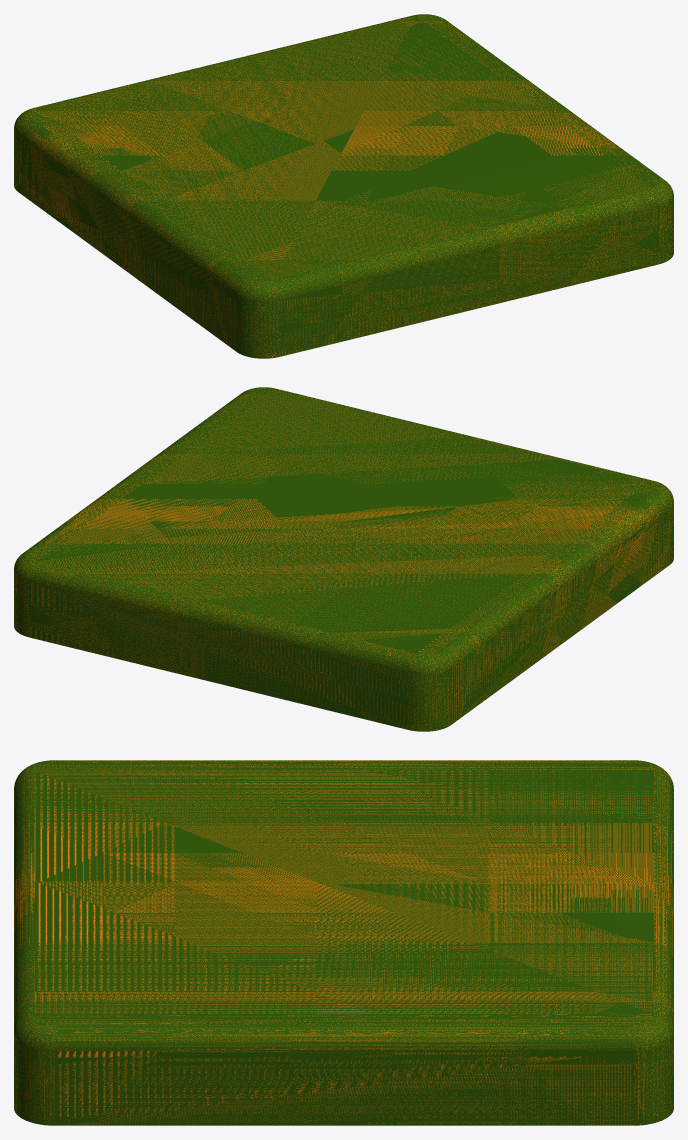
File: original-10.obj
3 views of the same model, one above another, from view 1: azimuth 30°, elevation 25°; view 2: azimuth 150°, elevation 25°; view 3: azimuth 270°, elevation 25° (orthographic). The views are drawn at different scales.
Parts seen in each view (by area): view 1: Component_2_3/Component_2/mesh6/mesh6-geometry#mesh6-geometry; view 2: Component_2_3/Component_2/mesh6/mesh6-geometry#mesh6-geometry; view 3: Component_2_3/Component_2/mesh6/mesh6-geometry#mesh6-geometry.
Boxes of the visible parts, <box> form: Component_2_3/Component_2/mesh6/mesh6-geometry#mesh6-geometry: <box>14,14,673,358</box>; Component_2_3/Component_2/mesh6/mesh6-geometry#mesh6-geometry: <box>14,387,673,731</box>; Component_2_3/Component_2/mesh6/mesh6-geometry#mesh6-geometry: <box>14,760,673,1125</box>.
Size of the model in its own units: 0.0633 by 0.00989 by 0.0633.
